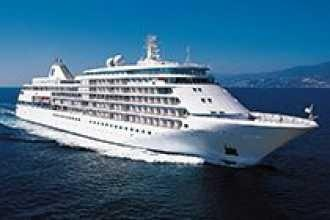youlun: (14, 33, 315, 167)
